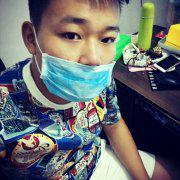WRONG: (33, 13, 121, 101)
